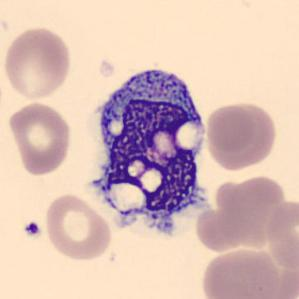Monocyte: (81, 54, 216, 246)
Platelets: (22, 219, 43, 240)
RBC: (1, 25, 74, 102), (6, 100, 74, 177), (208, 99, 279, 172), (42, 192, 114, 263), (225, 174, 284, 250), (200, 246, 282, 299), (204, 102, 257, 154), (263, 196, 299, 271)
